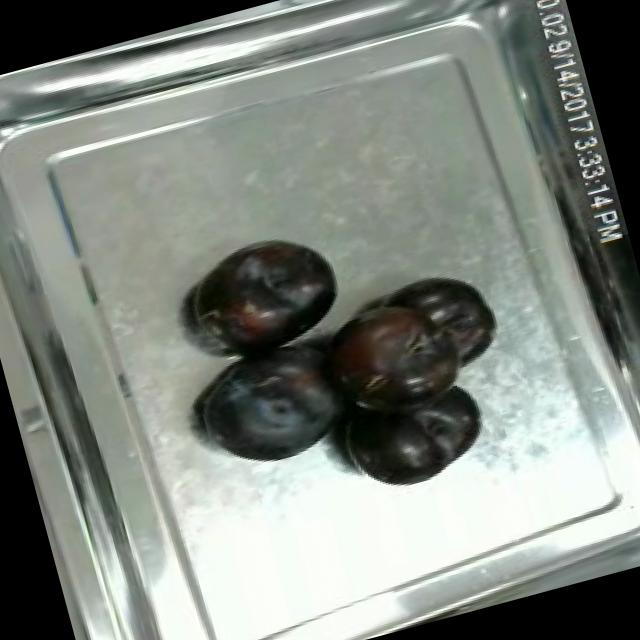Fruit: (296, 256, 520, 428), (178, 326, 370, 490), (176, 220, 354, 374), (322, 364, 504, 508)
